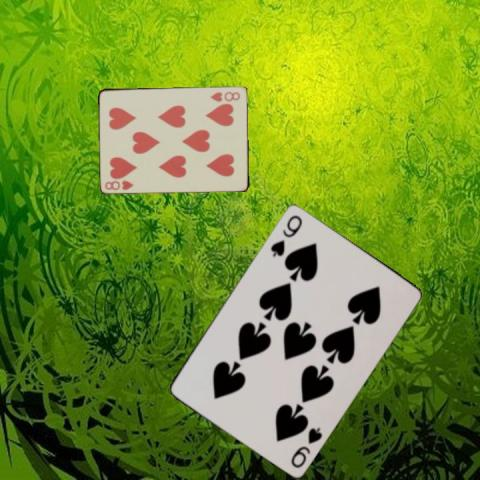8h: (208, 88, 242, 102), (102, 178, 135, 192)
9s: (267, 211, 304, 258), (287, 423, 324, 470)
